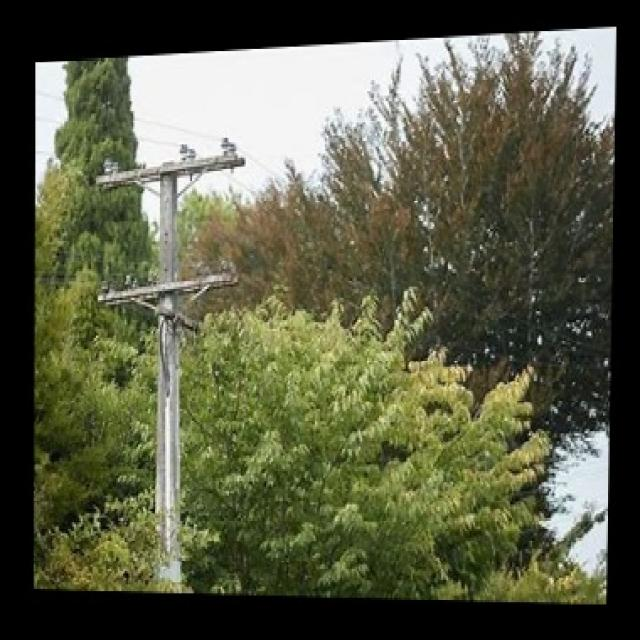utility poles: (102, 142, 257, 592)
